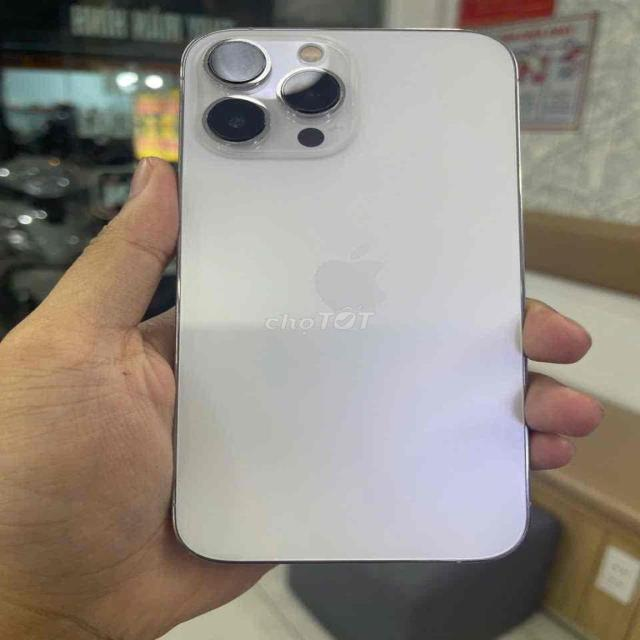gen_12_13: (172, 16, 540, 572)
